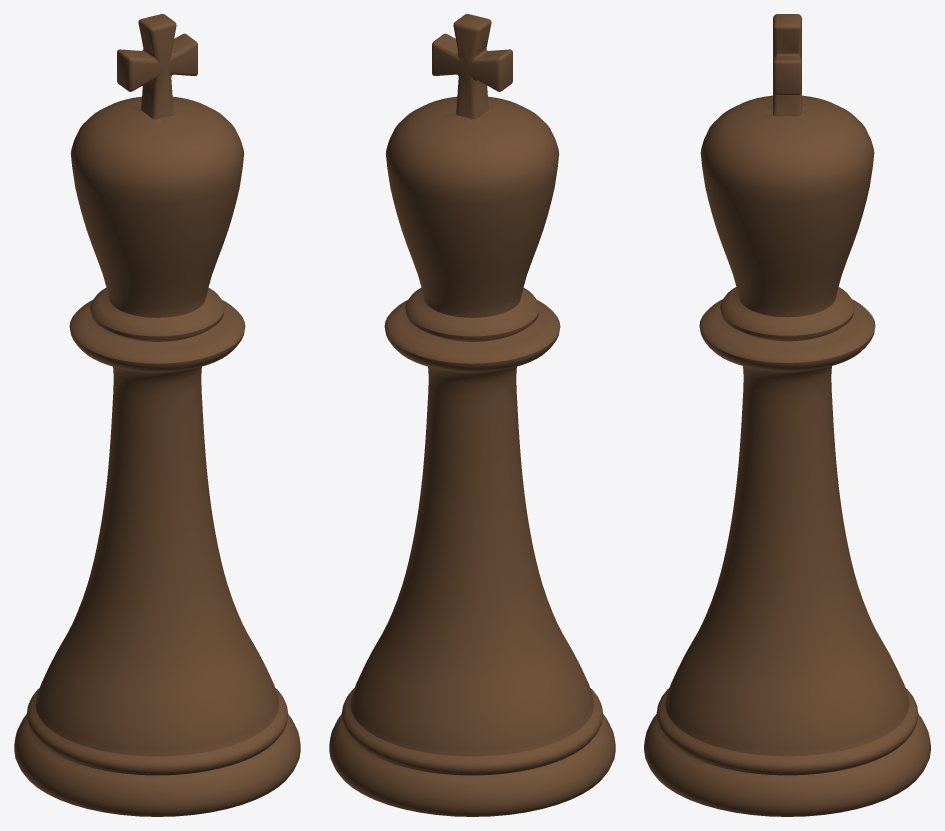
Rendered from black-king.glb.
3 views of the same model, side by side, from view 1: azimuth 30°, elevation 25°; view 2: azimuth 150°, elevation 25°; view 3: azimuth 270°, elevation 25° (orthographic).
Parts seen in each view (by area): view 1: black-king.001; view 2: black-king.001; view 3: black-king.001.
Boxes of the visible parts, x1,y1,x2,y2 form: black-king.001: (14,14,300,816); black-king.001: (329,14,615,816); black-king.001: (644,14,930,816).
Size of the model in its own units: 0.6142 by 1.75 by 0.6142.
